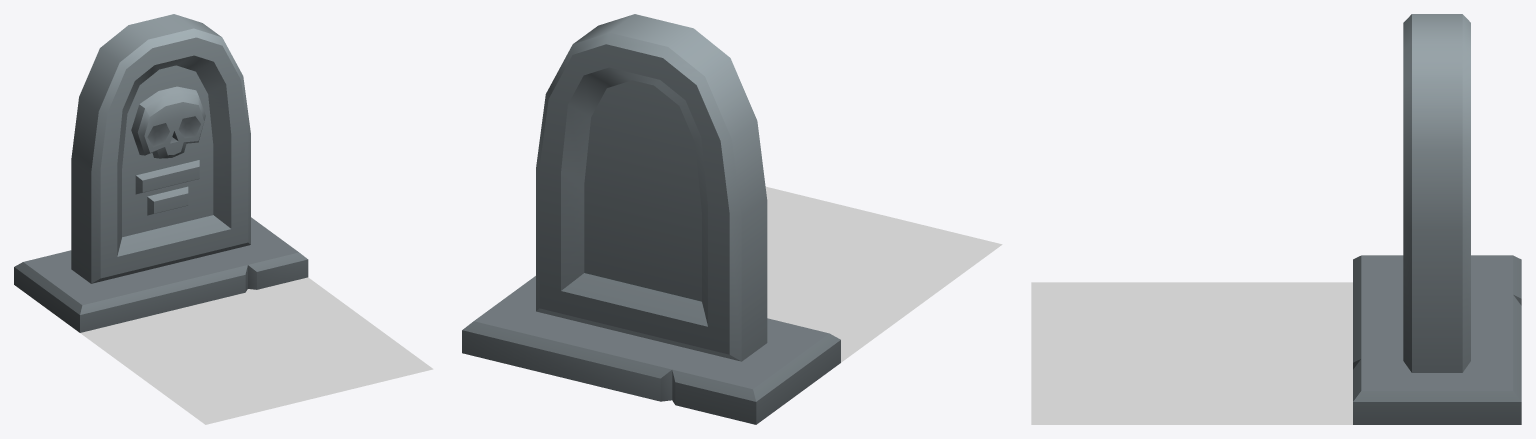
The model's file is grave.glb.
The picture shows the model from 3 angles, left to right: view 1: azimuth 30°, elevation 25°; view 2: azimuth 150°, elevation 25°; view 3: azimuth 270°, elevation 25°; orthographic projection. The views are drawn at different scales.
Visible parts, largest first — view 1: grave_A, Plane; view 2: grave_A, Plane; view 3: Plane, grave_A.
Part boxes in pixels (<box>): grave_A: <box>14,14,308,332</box>; Plane: <box>80,277,433,424</box>; grave_A: <box>462,14,840,424</box>; Plane: <box>765,186,1002,362</box>; Plane: <box>1031,282,1352,424</box>; grave_A: <box>1353,14,1521,424</box>.
Bounding box in the file's own units: 2 × 2.13 × 2.91.
2 materials, 1 textured.
